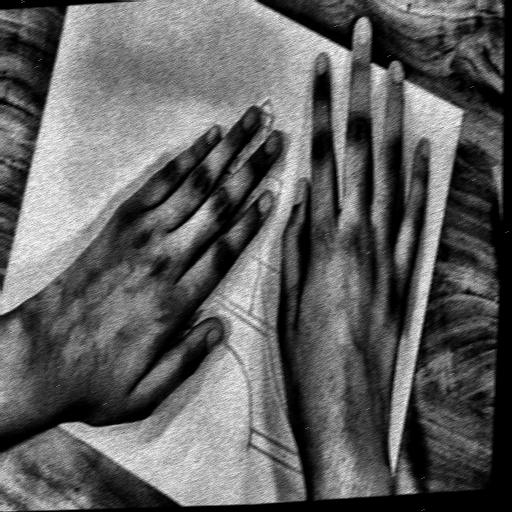eiffel-tower: (40, 27, 419, 490)
top_right: (459, 106, 465, 113)
